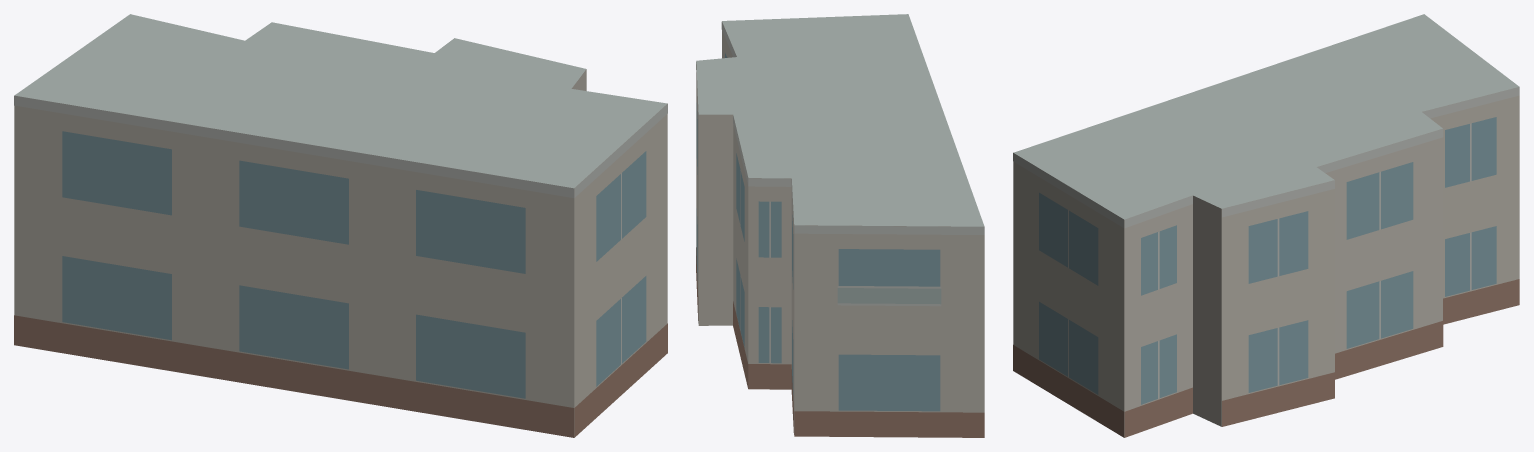
The model's file is survey-upis-32754057.glb.
3 renders of one model, left to right at view 1: azimuth 30°, elevation 25°; view 2: azimuth 150°, elevation 25°; view 3: azimuth 270°, elevation 25°, orthographic. The views are drawn at different scales.
Visible parts, largest first — view 1: survey-upis-32754057.tmp; view 2: survey-upis-32754057.tmp; view 3: survey-upis-32754057.tmp.
Part boxes in pixels (<box>): survey-upis-32754057.tmp: <box>14,14,667,437</box>; survey-upis-32754057.tmp: <box>696,14,984,437</box>; survey-upis-32754057.tmp: <box>1013,14,1519,437</box>.
Bounding box in the file's own units: 12.34 × 6.1 × 12.84.
